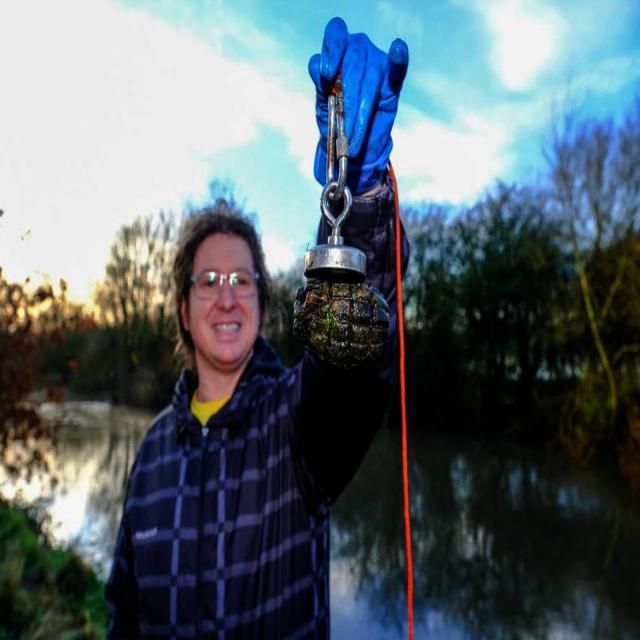grenade: (295, 283, 392, 369)
